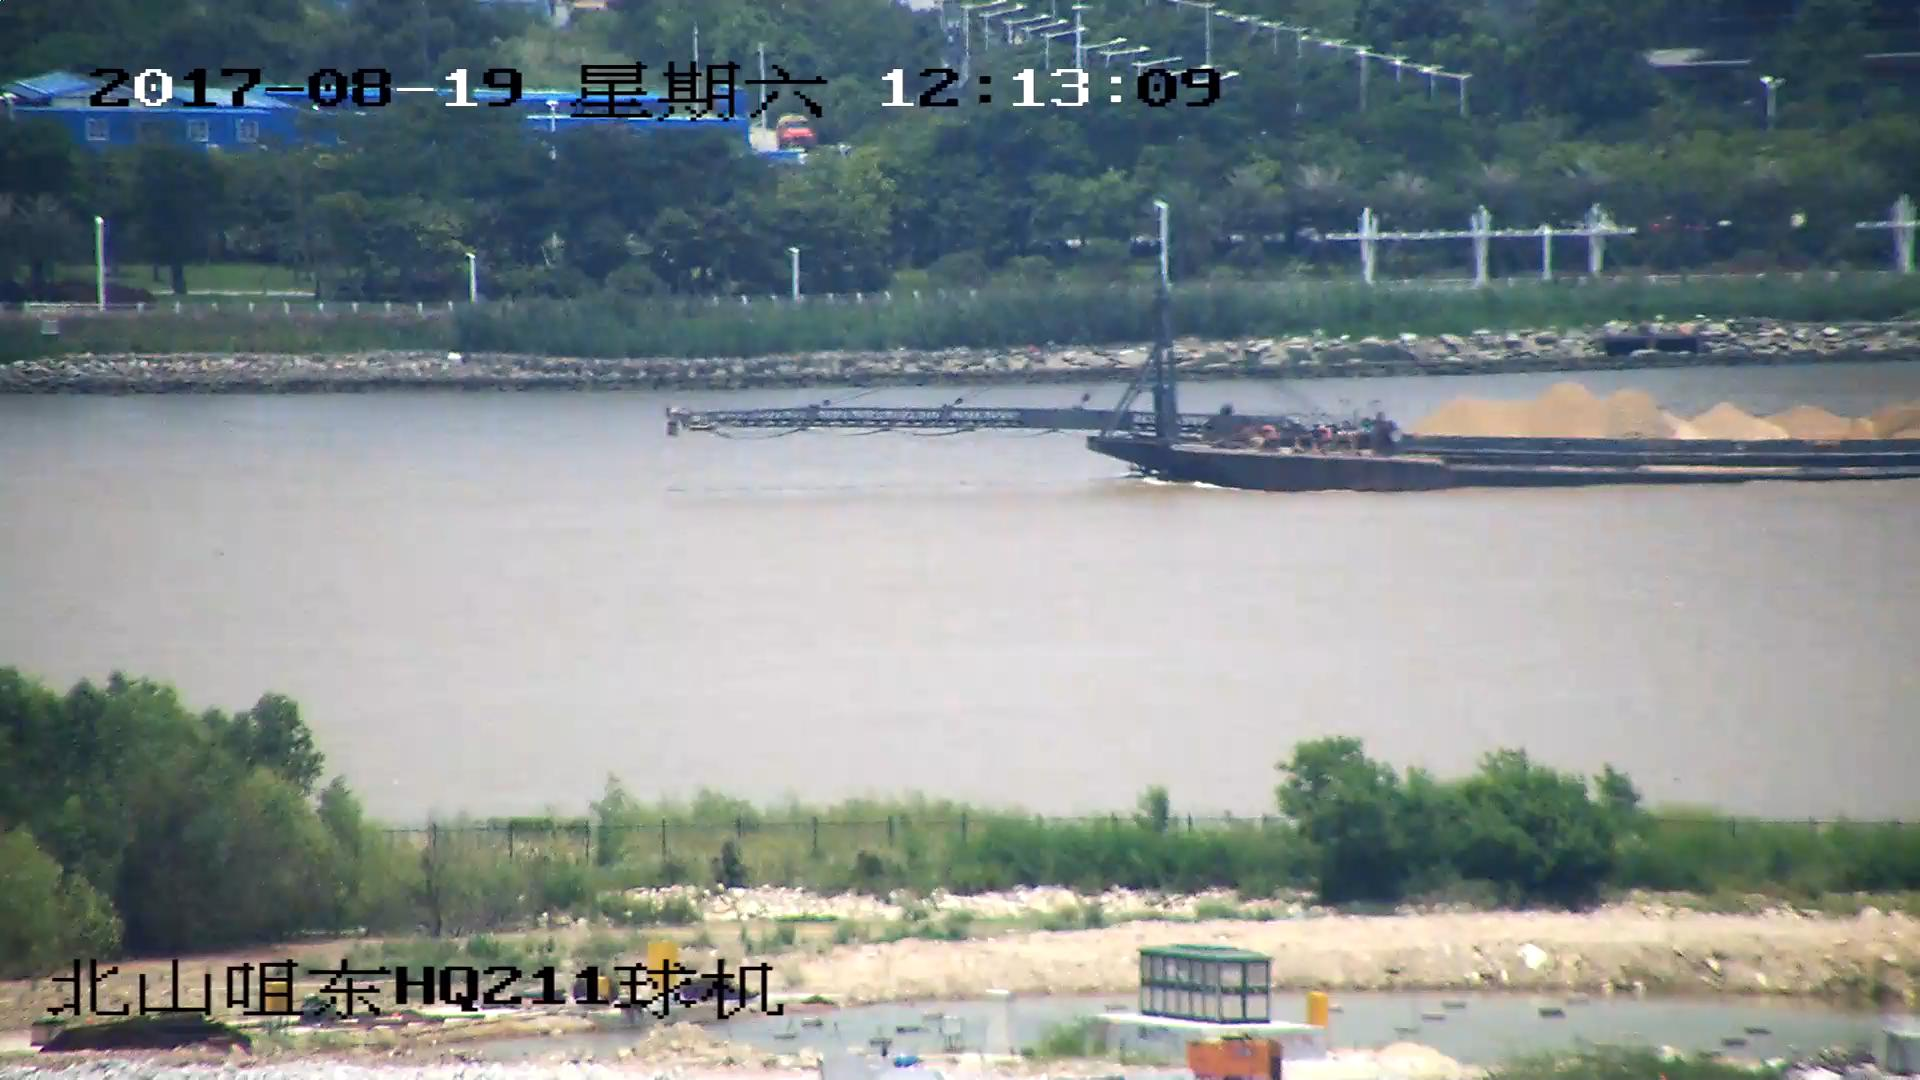ore carrier: (667, 285, 1920, 496)
